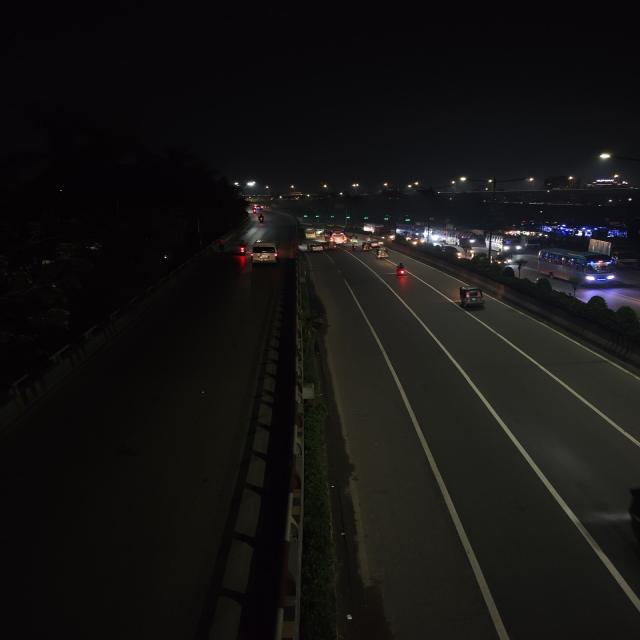bus: (536, 247, 618, 287), (489, 234, 525, 254), (450, 230, 480, 249), (326, 229, 348, 244), (304, 229, 318, 239)
car: (250, 241, 280, 265), (308, 243, 326, 253)
cng: (456, 282, 488, 311), (374, 247, 390, 261), (360, 242, 372, 251)
motorcycle: (392, 261, 409, 279), (234, 239, 249, 255), (256, 213, 266, 224)
truck: (588, 237, 640, 269)
